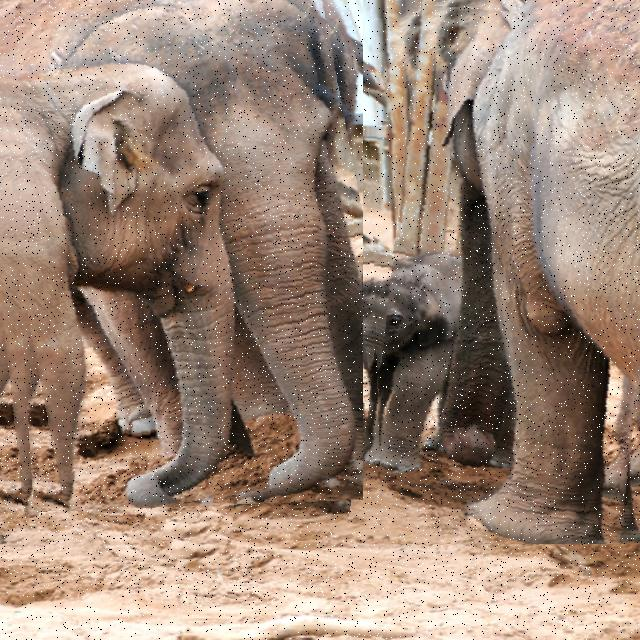elephant: (0, 0, 363, 512), (366, 0, 640, 544), (0, 35, 241, 558), (332, 252, 486, 500)
